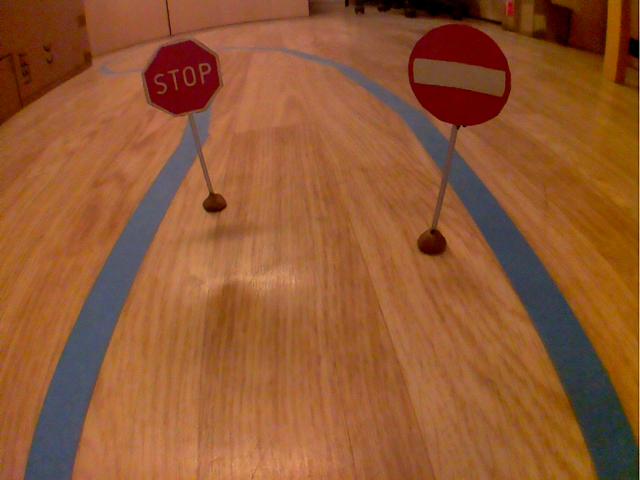Stop: (137, 34, 227, 121)
Zakaz: (402, 20, 516, 129)
